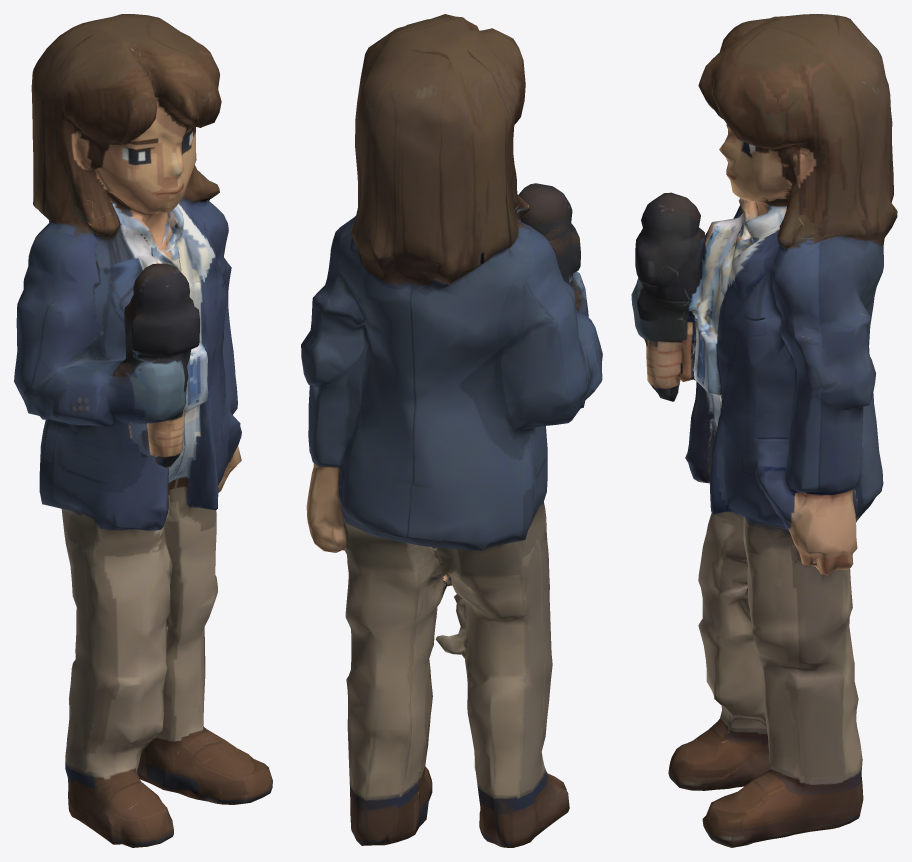
File: reporter.glb
The picture shows the model from 3 angles, left to right: view 1: azimuth 30°, elevation 25°; view 2: azimuth 150°, elevation 25°; view 3: azimuth 270°, elevation 25°; orthographic projection. The views are drawn at different scales.
Bounding box in the file's own units: 0.6579 × 2.01 × 0.628.
1 material, 1 textured.
